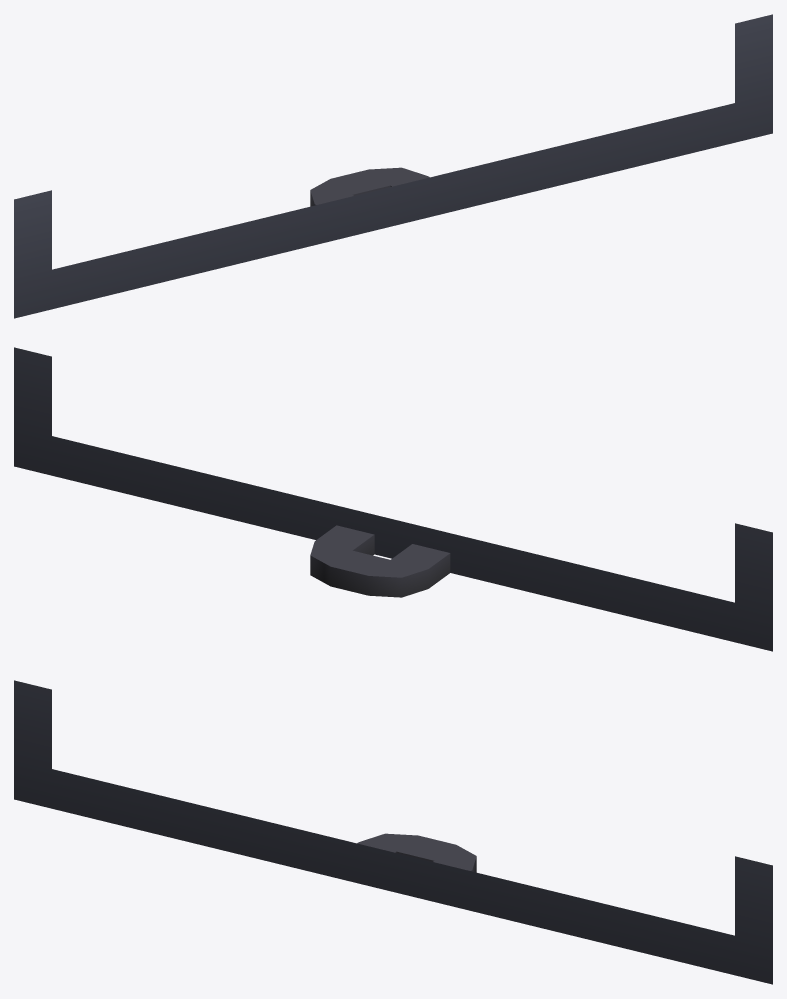
The model's file is track-striped-wide-cap-front.fbx.
3 renders of one model, top to bottom at view 1: azimuth 30°, elevation 25°; view 2: azimuth 150°, elevation 25°; view 3: azimuth 330°, elevation 25°, orthographic.
Visible parts, largest first — view 1: track-striped-wide-cap-front; view 2: track-striped-wide-cap-front; view 3: track-striped-wide-cap-front.
Part boxes in pixels (bbox=[...]): track-striped-wide-cap-front: bbox=[14, 14, 772, 318]; track-striped-wide-cap-front: bbox=[14, 347, 772, 651]; track-striped-wide-cap-front: bbox=[14, 680, 772, 984].
Bounding box in the file's own units: 200 × 30 × 20.
